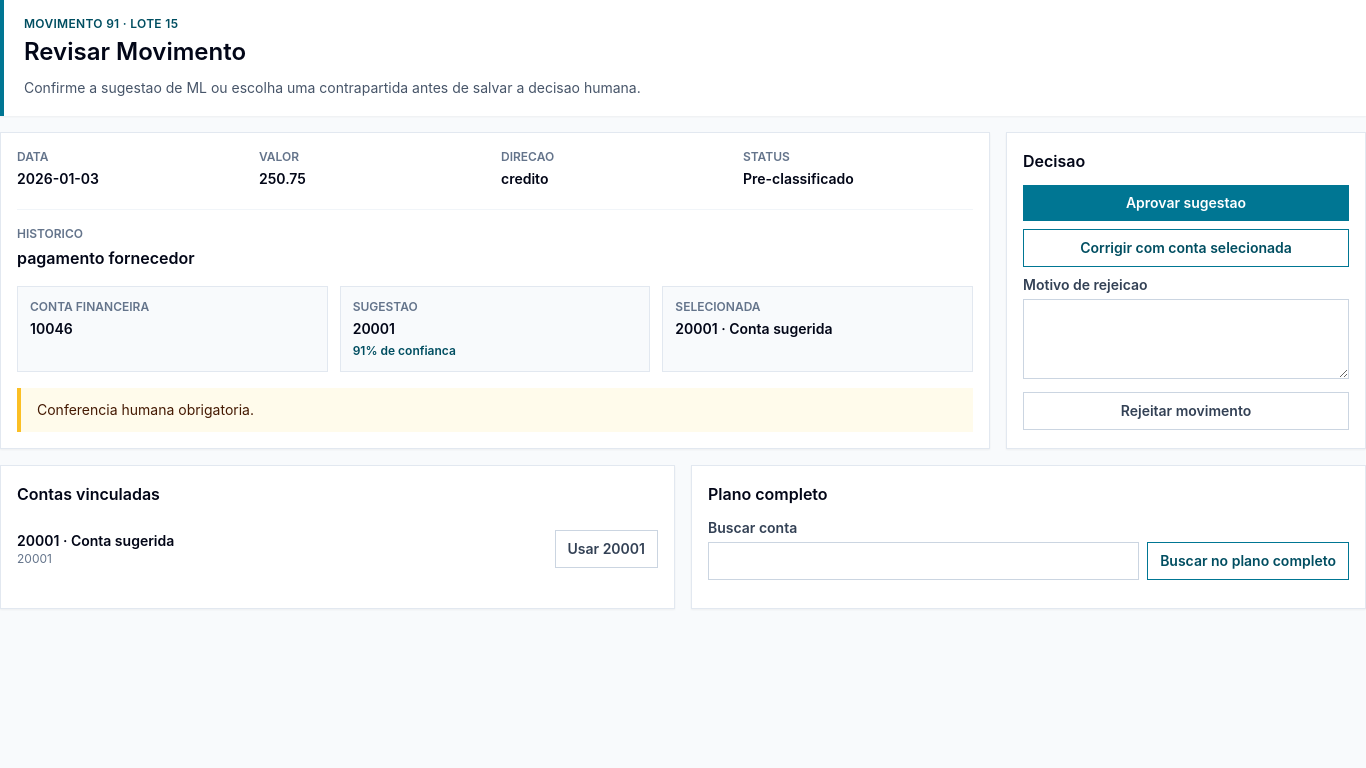
Scenario: RevisarMovimentoPage › exibe dados, sugestao, confianca, warnings e busca vinculada primeiro
Expected: the heading "Revisar Movimento" is shown, [24, 37, 246, 66]
Expected: the text "pagamento fornecedor" is shown, [17, 248, 195, 268]
In the field labelled "Buscar conta": [924, 561] box [708, 542, 1139, 580], type "fornecedor"
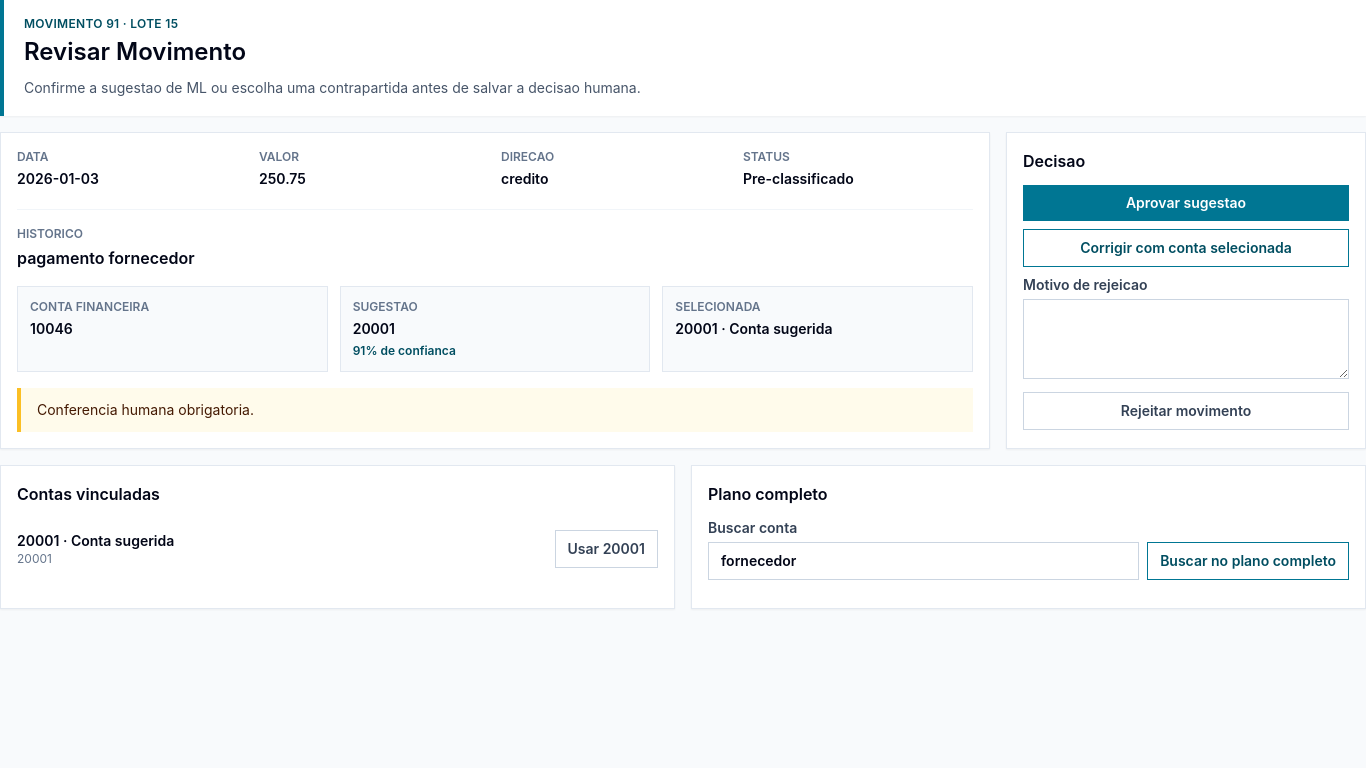
Click the button "Buscar no plano completo": [1248, 561] box [1147, 542, 1349, 580]
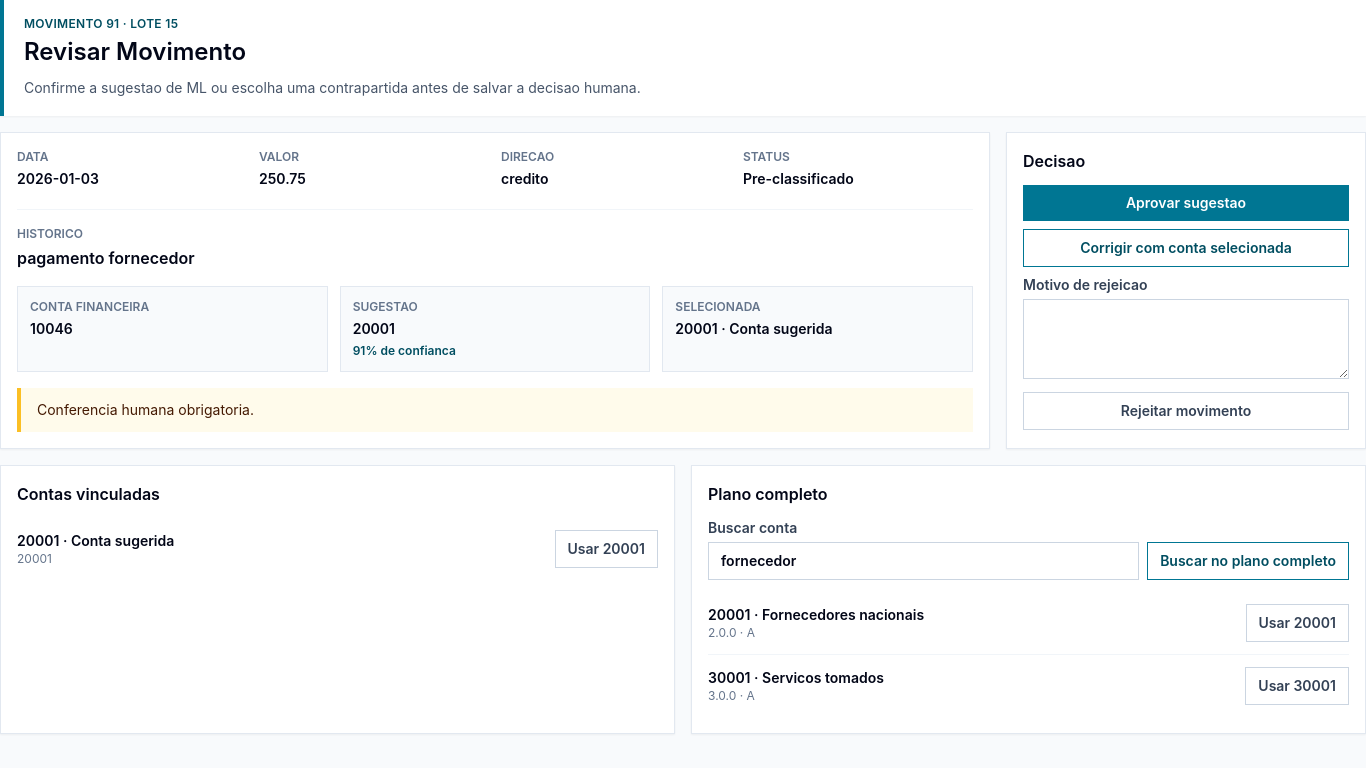
Expected: the button "Usar 30001" is shown, [1245, 667, 1349, 705]
